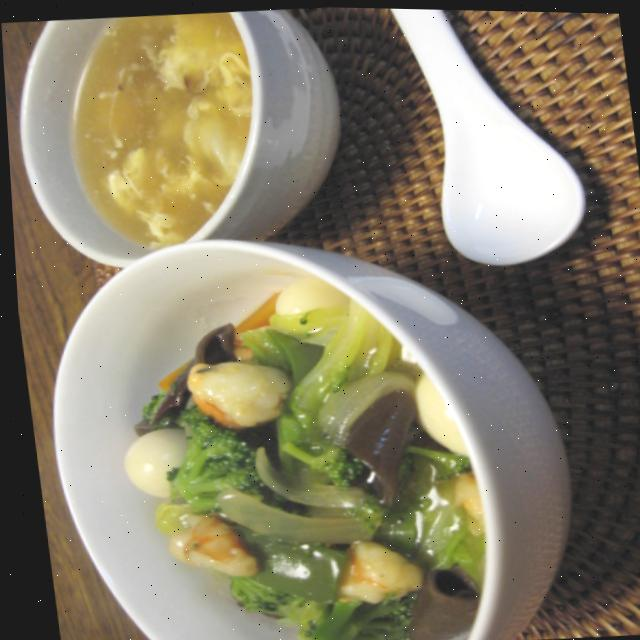汤锅炖物: (24, 400, 192, 640)
